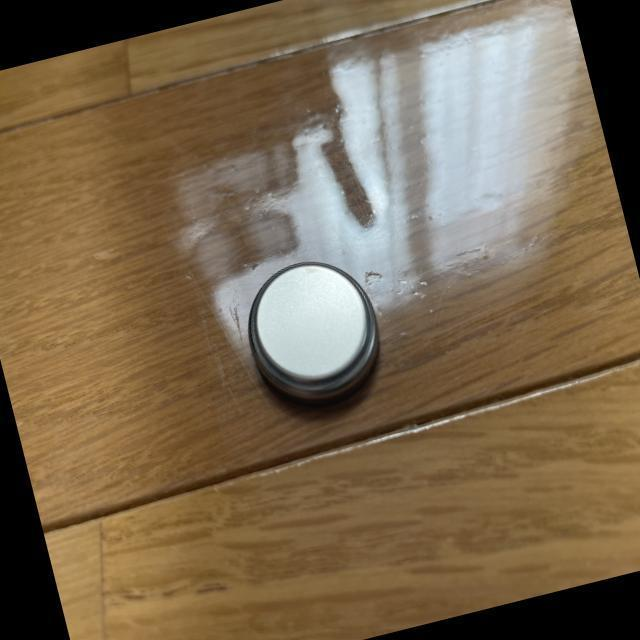COIN: (230, 242, 394, 414)
